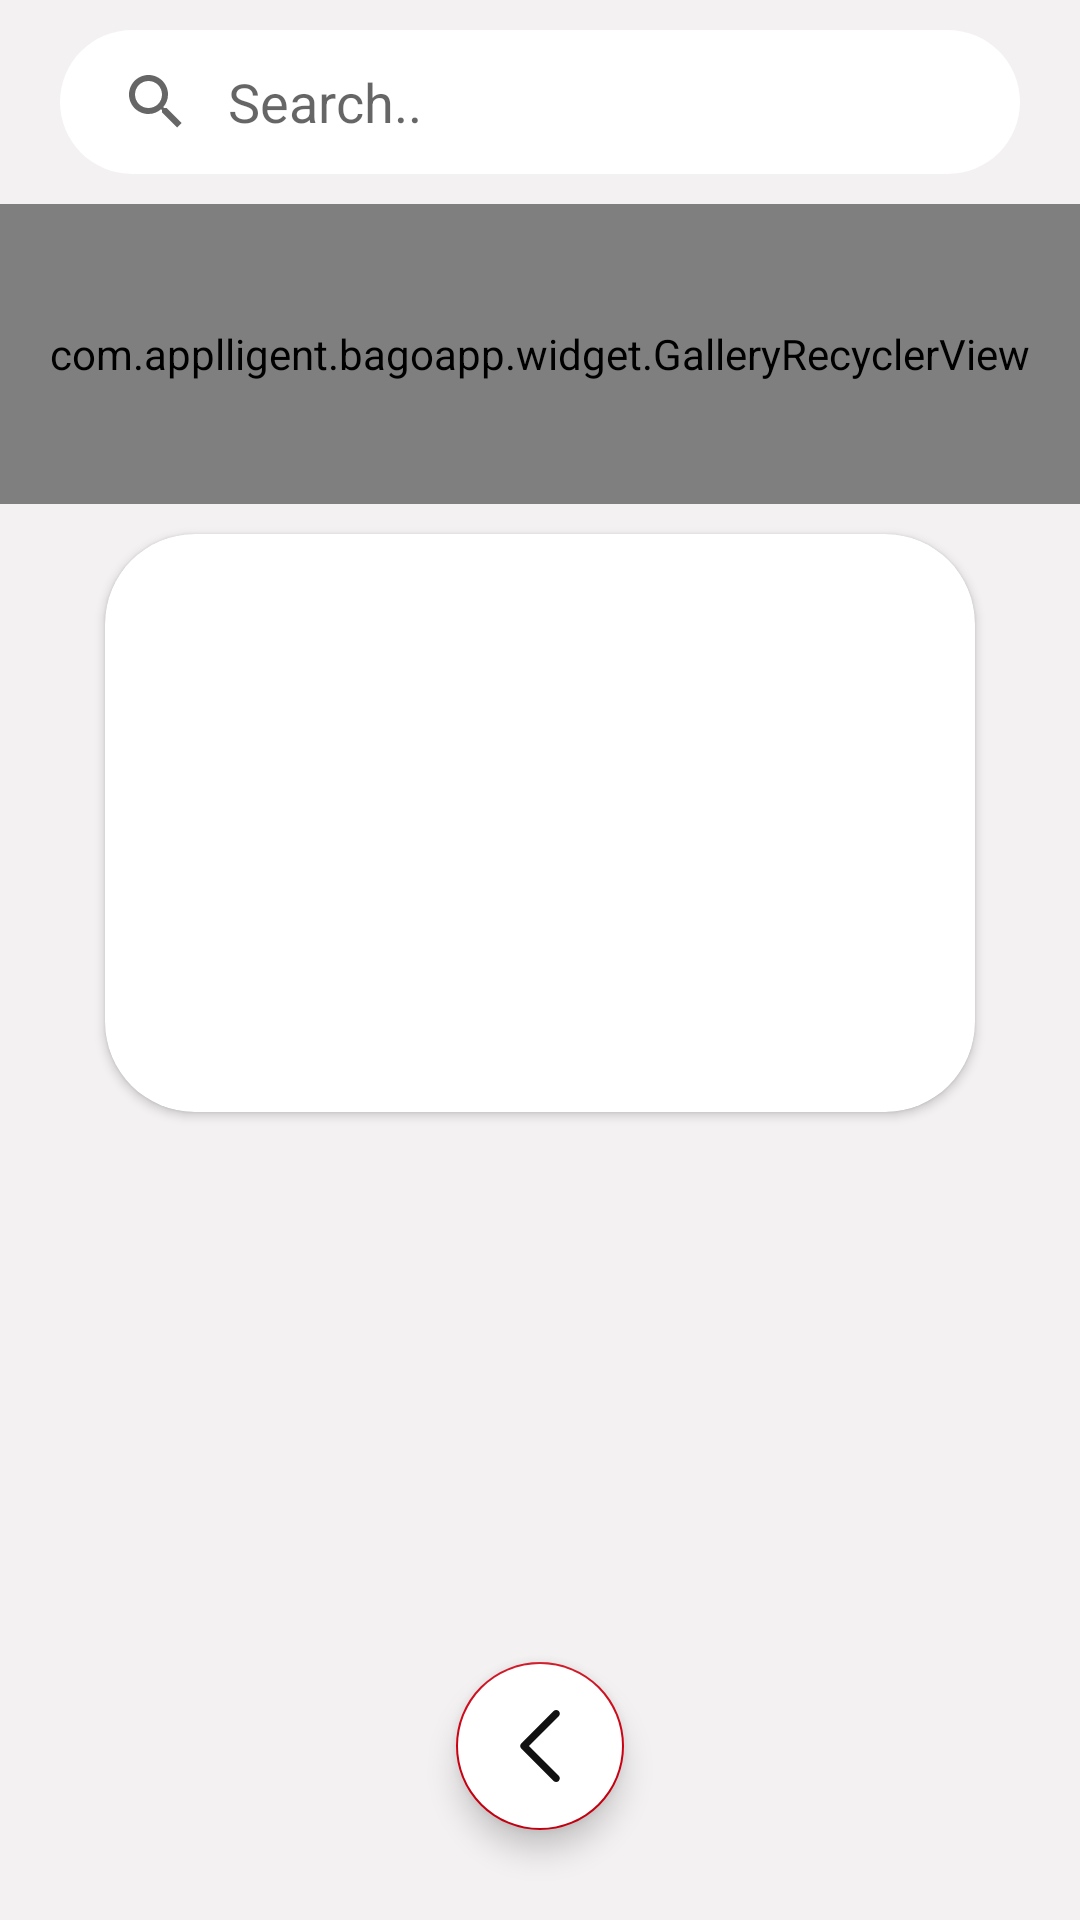

Named icons in this screenshot (1080 × 1920) and their bounding boxes, bbox=(x1, y1, x2, y2):
back: bbox=(456, 1662, 624, 1830)
